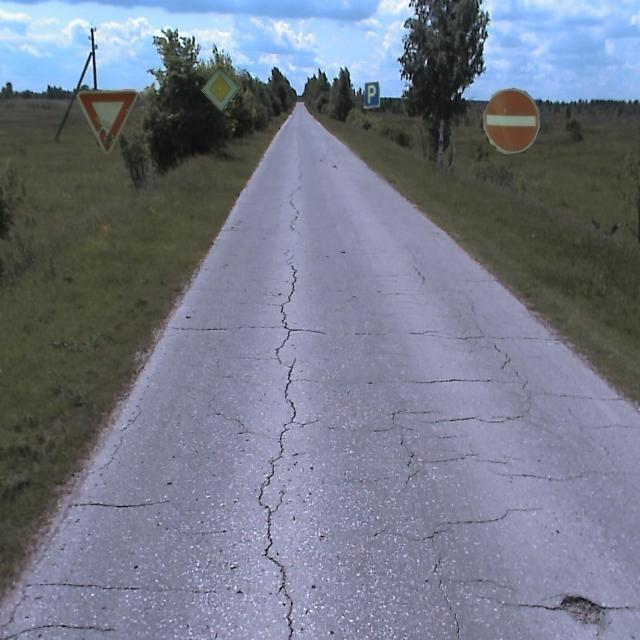road: (0, 103, 639, 639)
